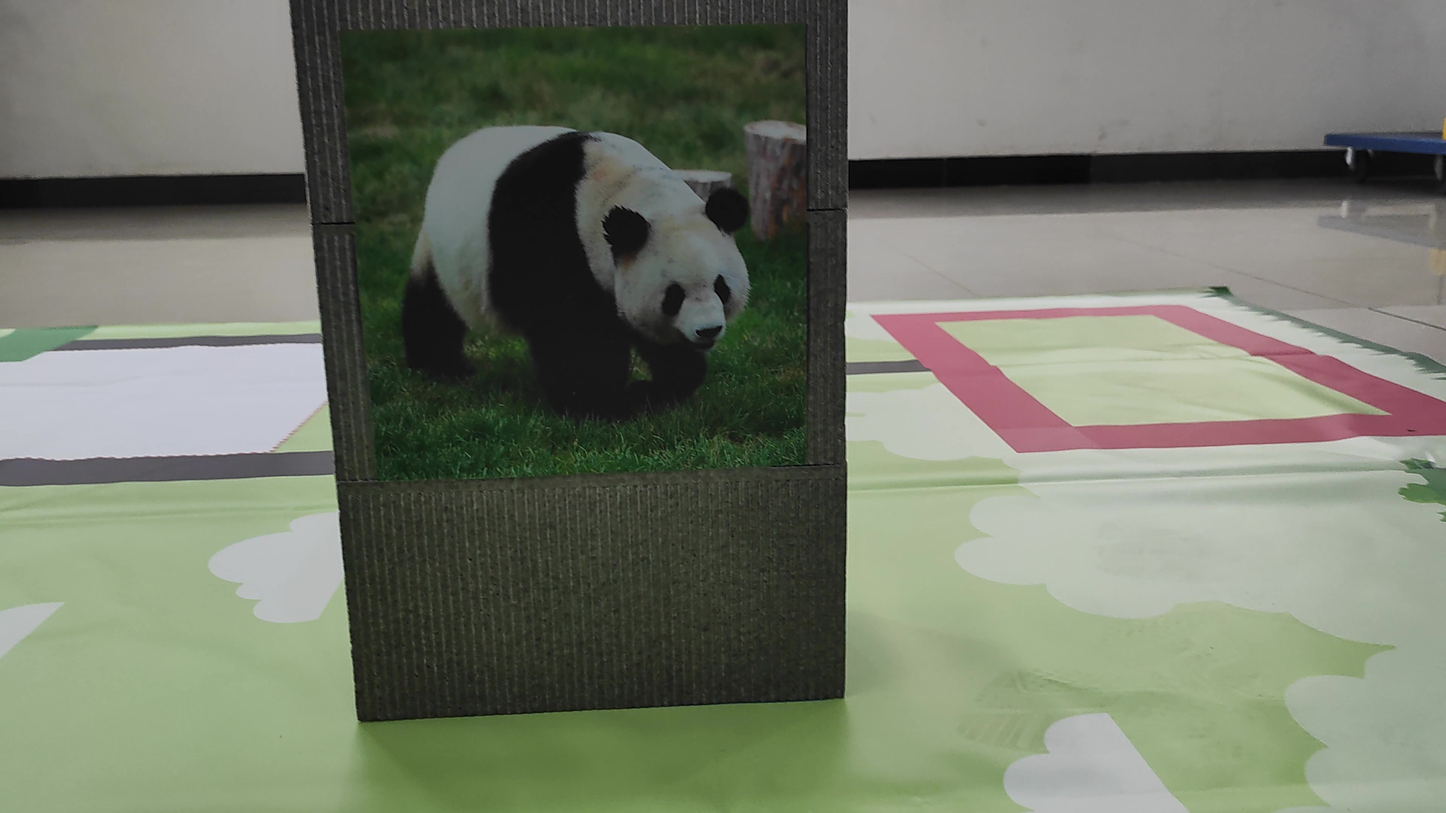panda: (367, 90, 765, 410)
